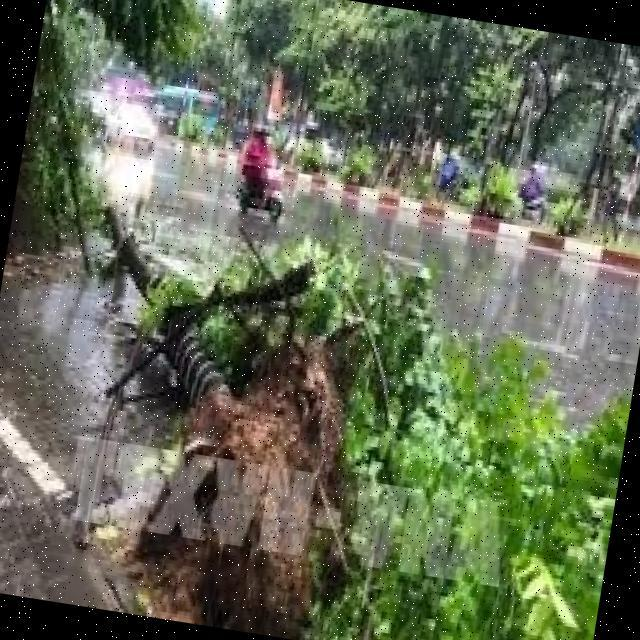fallen_object: (39, 178, 444, 612)
